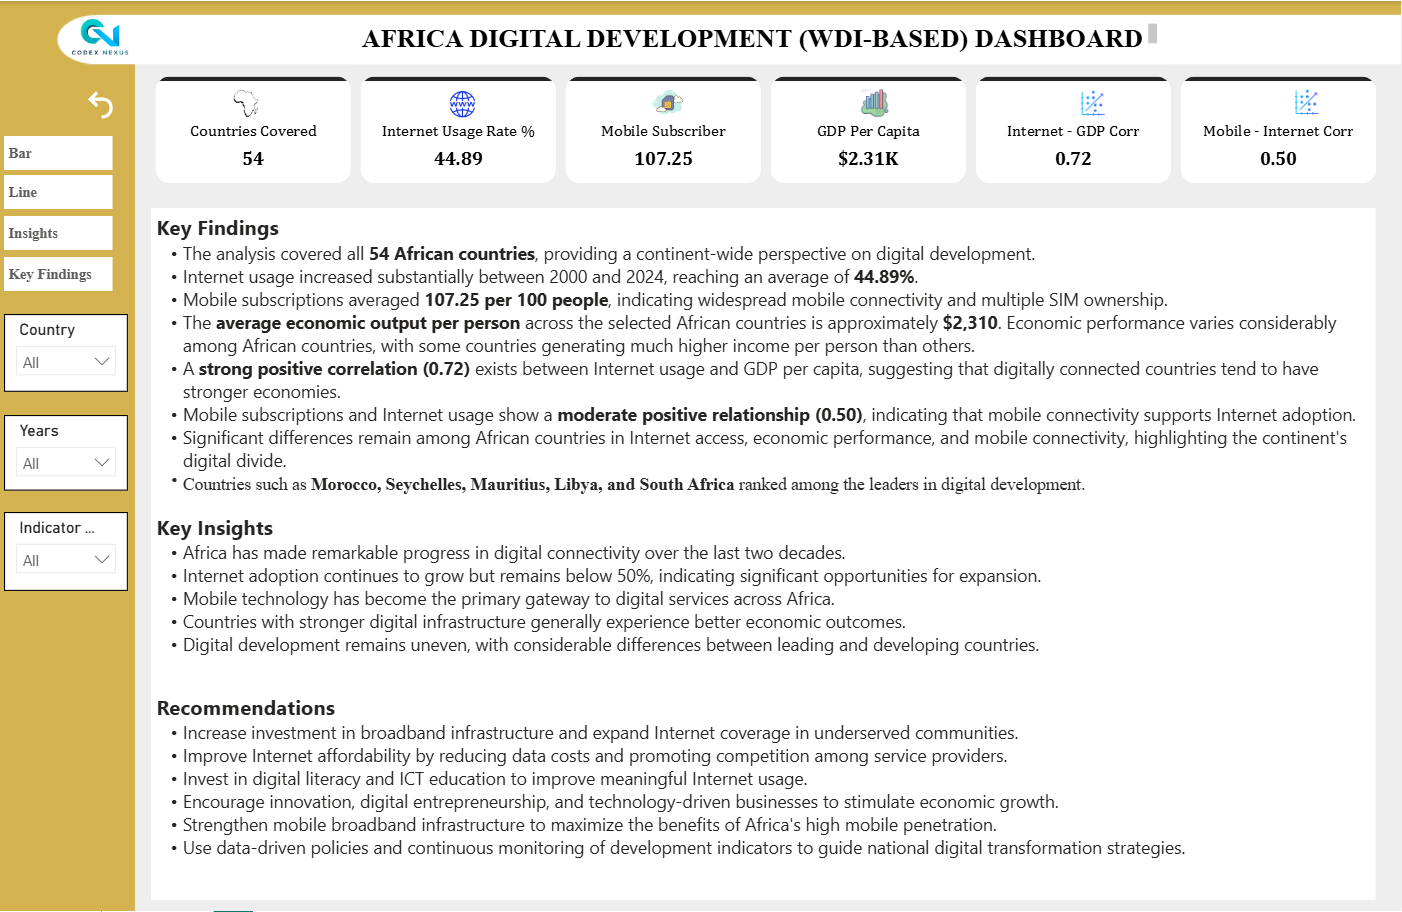

The dashboard page shown, as its layout file describes it:
{"tool":"powerbi","page":{"name":"ADDD_00-24","canvas":[1280,830],"ordinal":0},"visuals":[{"type":"image","box":[186,77.5,80.5,32.5],"z":0,"group":"g1"},{"type":"textbox","box":[320,15,743,43],"z":1000},{"type":"image","box":[397.5,81.3,52.6,26.1],"z":1000,"group":"g1"},{"type":"cardVisual","fields":{"Data":["Measure.Countries Covered","Measure.Internet Usage Rate %","Measure.Avg Mobile Usage","Measure.Avg GDP Per Capita","Measure.Internet - GDP Correlation Across Country","Measure.Mobile - Internet Correlation"]},"box":[127,52,1149,131],"z":2000},{"type":"image","box":[576.7,77,66.6,32.5],"z":2000,"group":"g1"},{"type":"image","box":[62,15,60,37],"z":3000},{"type":"image","box":[968.5,80.3,60.1,26.1],"z":3000,"group":"g1"},{"type":"image","box":[769.9,80.3,60.1,26.1],"z":4000,"group":"g1"},{"type":"slicer","fields":{"Values":["Africa_Digital_Development.Years"]},"box":[5.9,377.9,113,69],"z":4000},{"type":"image","box":[1163.9,79.5,60.1,26.1],"z":5000,"group":"g1"},{"type":"slicer","fields":{"Values":["Africa_Digital_Development.Short Name"]},"box":[5.9,285.9,113,71],"z":5000},{"type":"slicer","fields":{"Values":["Africa_Digital_Development.Indicator Name"]},"box":[5.9,465.9,113,72],"z":6000},{"type":"group","id":"g1","title":"Group 1","box":[186,77,1038,33],"z":11000},{"type":"actionButton","box":[5.9,195.9,99,31],"z":27000},{"type":"actionButton","box":[5.9,158.9,99,31],"z":28000},{"type":"actionButton","box":[5.9,122.9,99,31],"z":29000},{"type":"actionButton","box":[5.9,233.9,99,31],"z":38000},{"type":"textbox","box":[140,189,1117,631],"z":39000},{"type":"actionButton","box":[76.2,77.1,44.9,34.2],"z":40000}]}

Visuals, with their boxes on the page's 1280x830 design canvas (x1, y1, x2, y2). These are canvas units, not pixel positions in the 1402x912 screenshot, which may show the page scaled, cropped or inside an application window:
image: (186,78,266,110)
textbox: (320,15,1063,58)
image: (398,81,450,107)
cardVisual - Measure.Countries Covered x Measure.Internet Usage Rate %: (127,52,1276,183)
image: (577,77,643,110)
image: (62,15,122,52)
image: (968,80,1029,106)
image: (770,80,830,106)
slicer - Africa_Digital_Development.Years: (6,378,119,447)
image: (1164,80,1224,106)
slicer - Africa_Digital_Development.Short Name: (6,286,119,357)
slicer - Africa_Digital_Development.Indicator Name: (6,466,119,538)
"Group 1" group: (186,77,1224,110)
actionButton: (6,196,105,227)
actionButton: (6,159,105,190)
actionButton: (6,123,105,154)
actionButton: (6,234,105,265)
textbox: (140,189,1257,820)
actionButton: (76,77,121,111)
